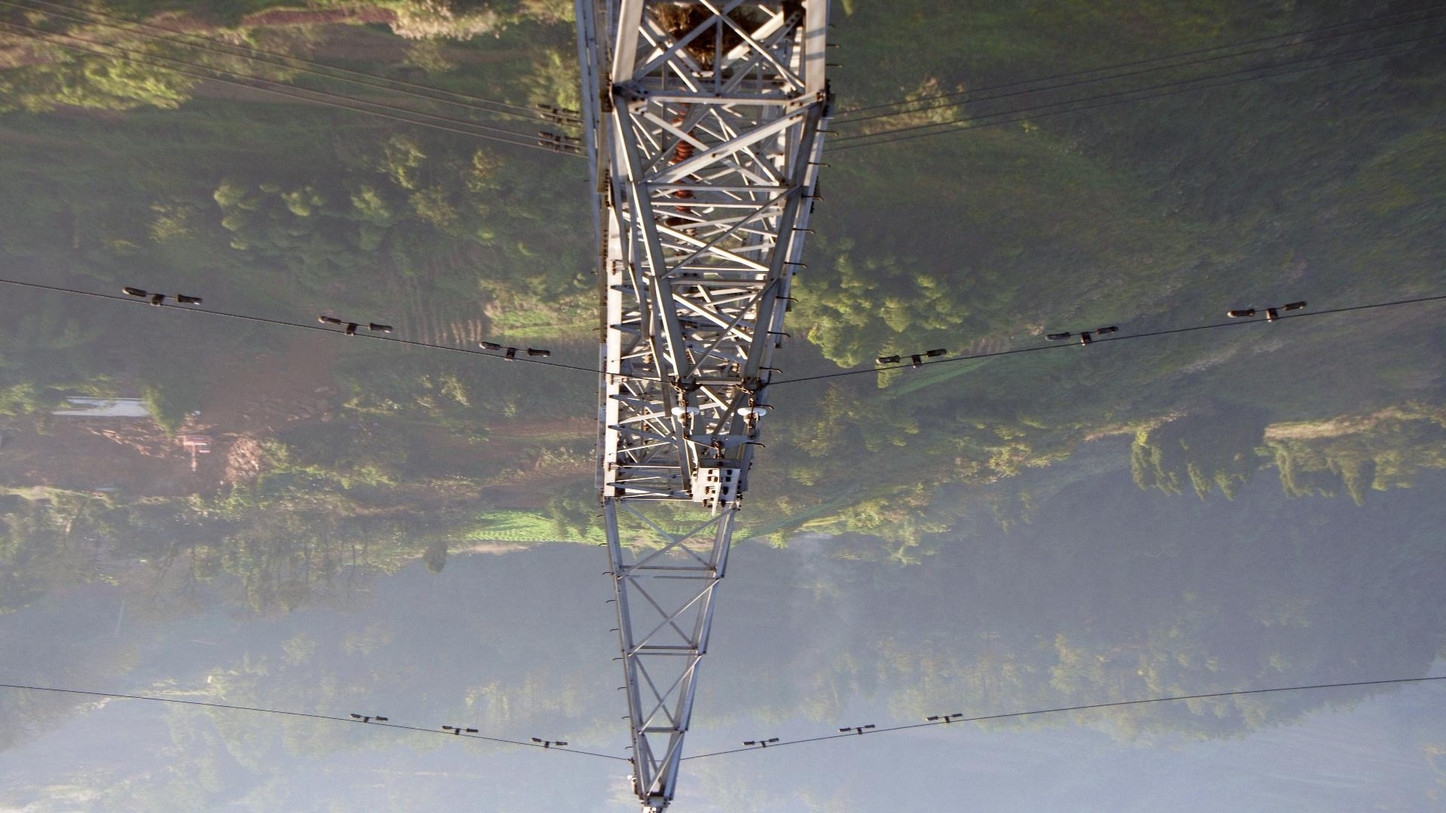damper: (1223, 297, 1312, 327), (871, 343, 951, 375), (1041, 321, 1121, 353), (117, 285, 206, 312), (316, 312, 396, 341), (475, 337, 554, 366), (738, 734, 782, 753), (922, 709, 966, 728), (833, 720, 878, 738), (525, 735, 569, 752), (346, 710, 390, 726), (438, 722, 482, 738)
nest: (652, 1, 755, 62)
